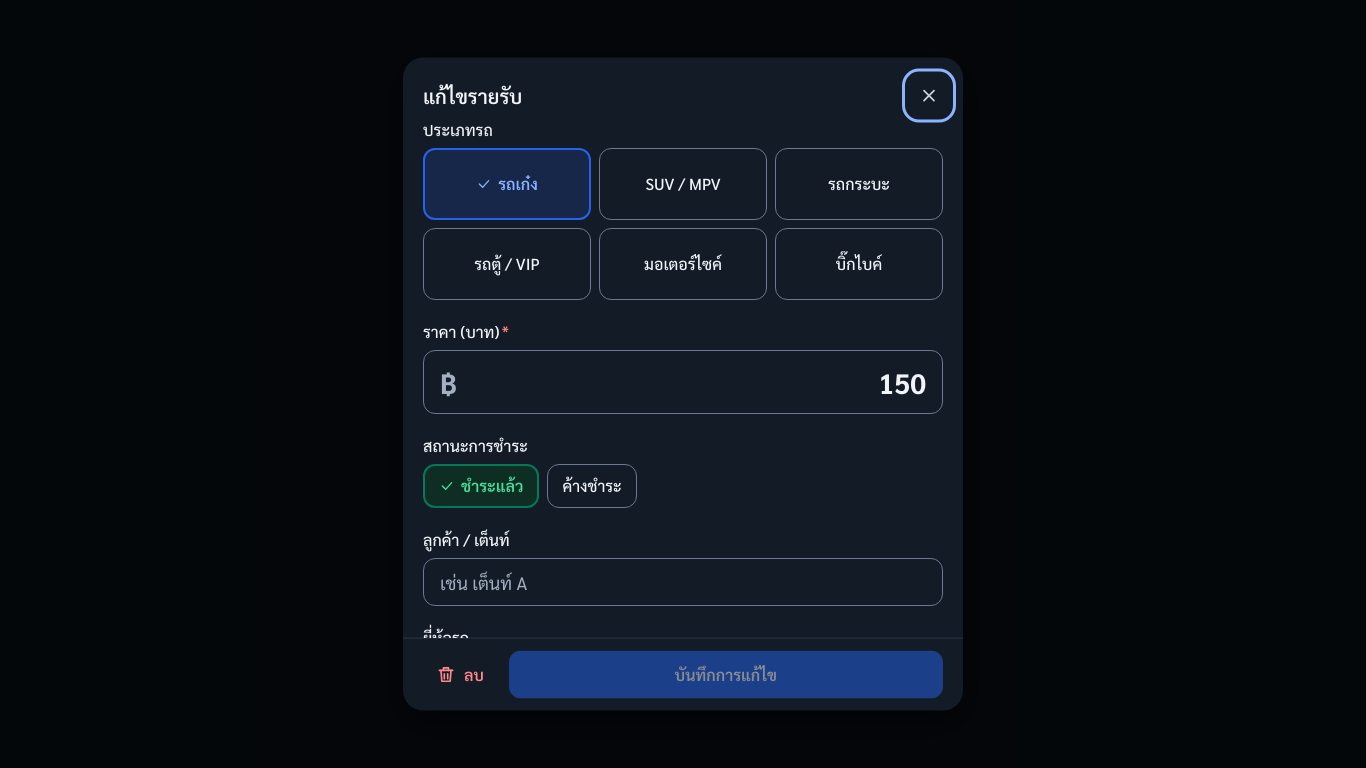
Test: EditRecordDialog › says when another device changed the record and keeps the dialog open
(page scrolled)
Replace the text in the field labelled "ราคา (บาท)*" with "200" at (695, 382), box [465,351,926,413]
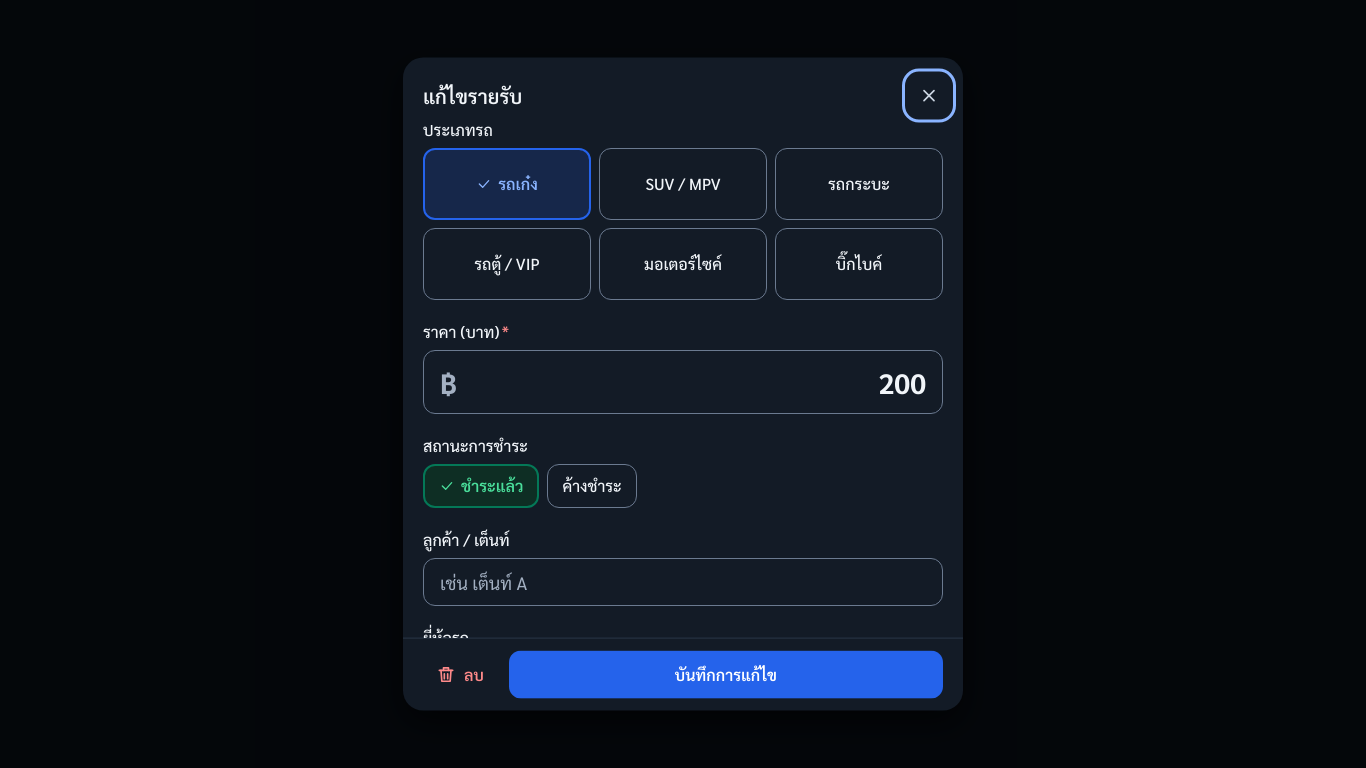
Click the button "บันทึกการแก้ไข".
click(726, 674)  # box [509,650,943,698]
(page scrolled)
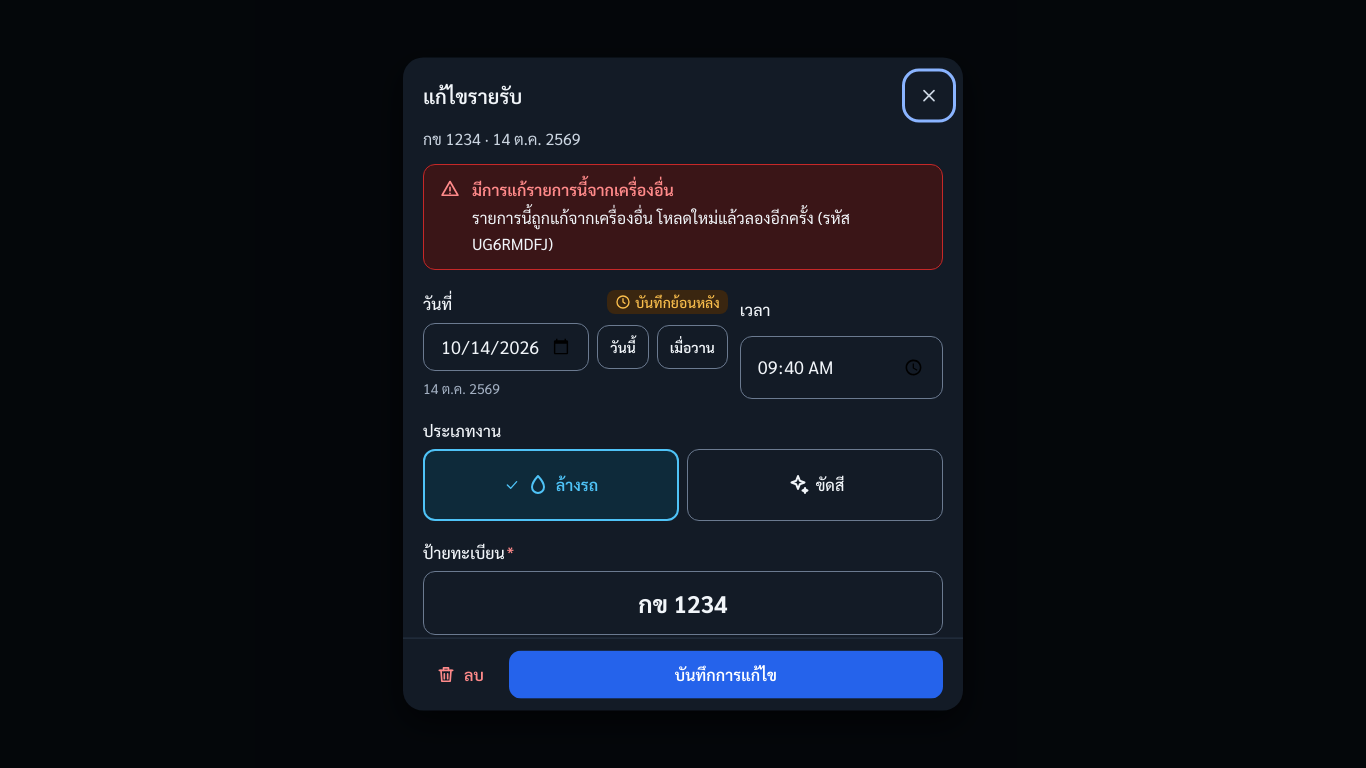
Expected: the message shows "มีการแก้รายการนี้จากเครื่องอื่น", [472,179,674,200]
